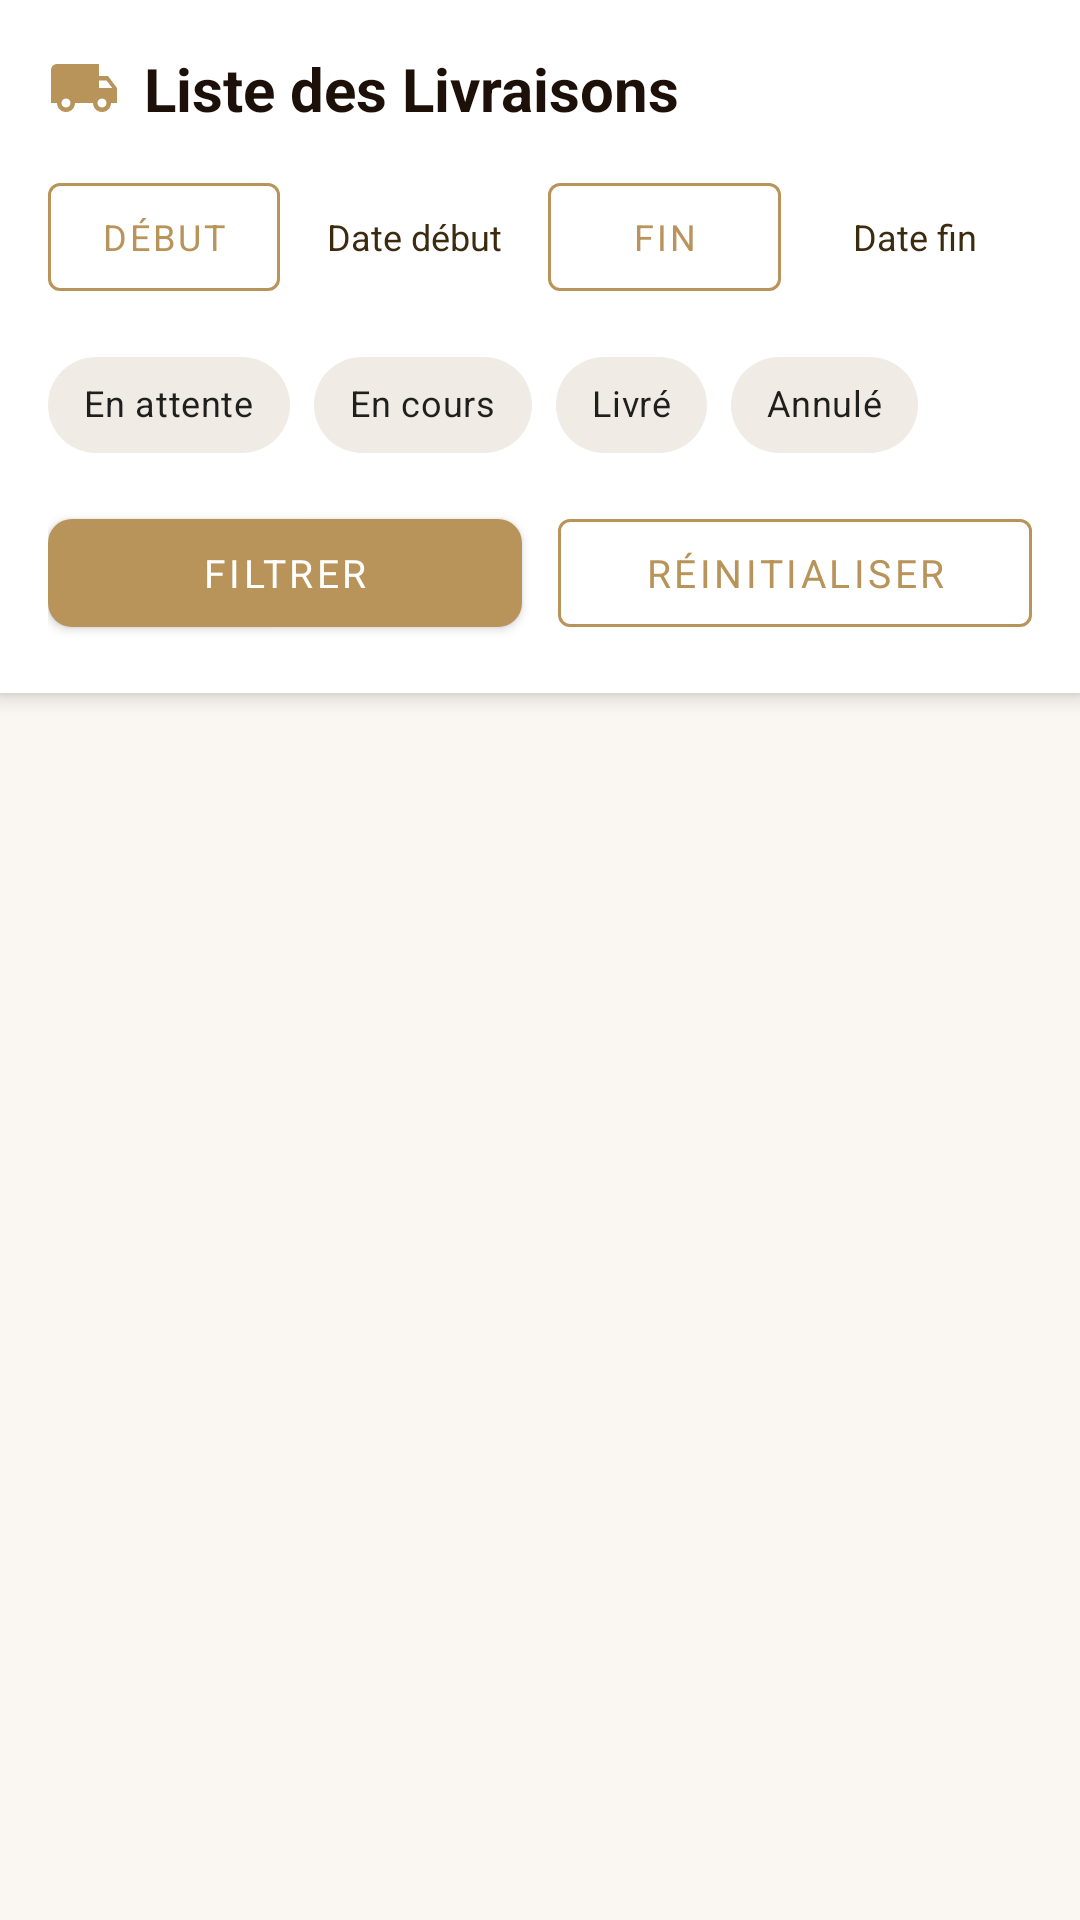

Screen size 1080×1920. Icon name, then its box in pixels as [x1, y1, x2, y2]:
delivery: [51, 64, 117, 112]
